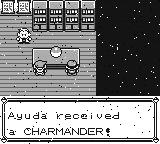leer: (0, 0, 30, 15)
main: (65, 60, 79, 76)
no-caminable: (95, 0, 160, 96), (32, 1, 95, 32), (33, 48, 79, 64)
npc: (16, 29, 32, 44), (33, 61, 48, 76)
poke-ball: (50, 46, 62, 58)
texto: (0, 97, 159, 143)
